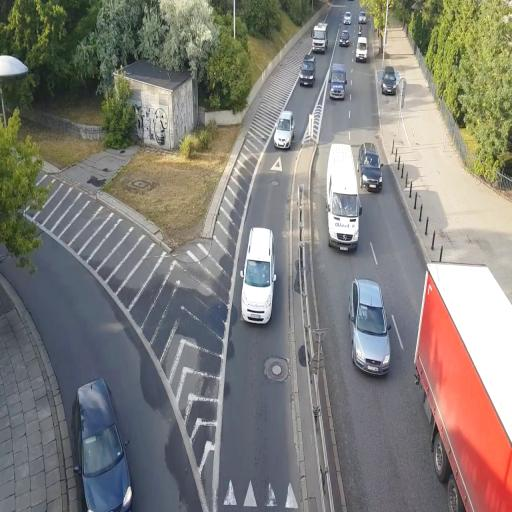vehicle: (414, 263, 512, 509), (75, 378, 133, 511), (349, 277, 392, 377), (326, 140, 362, 254), (241, 226, 275, 324), (360, 143, 384, 193), (274, 110, 294, 150), (328, 64, 348, 100), (299, 55, 316, 87), (311, 23, 328, 54), (381, 68, 399, 95), (338, 26, 352, 46)
